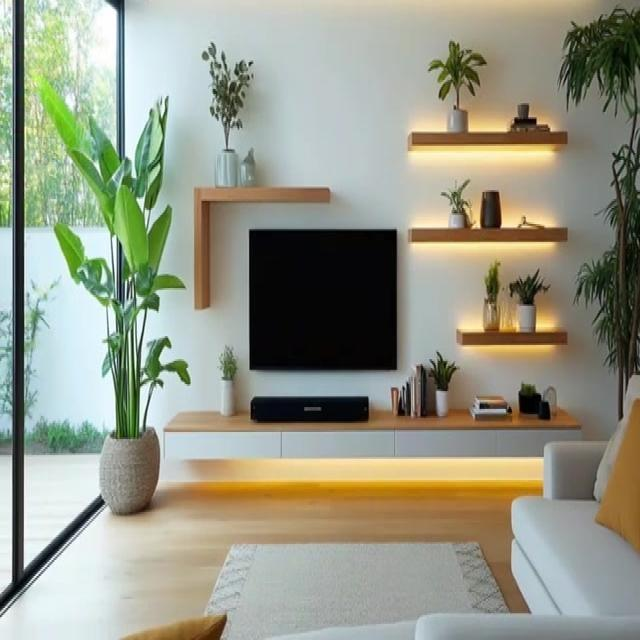obstacle: (510, 377, 640, 640), (204, 538, 510, 638), (163, 404, 583, 462)
